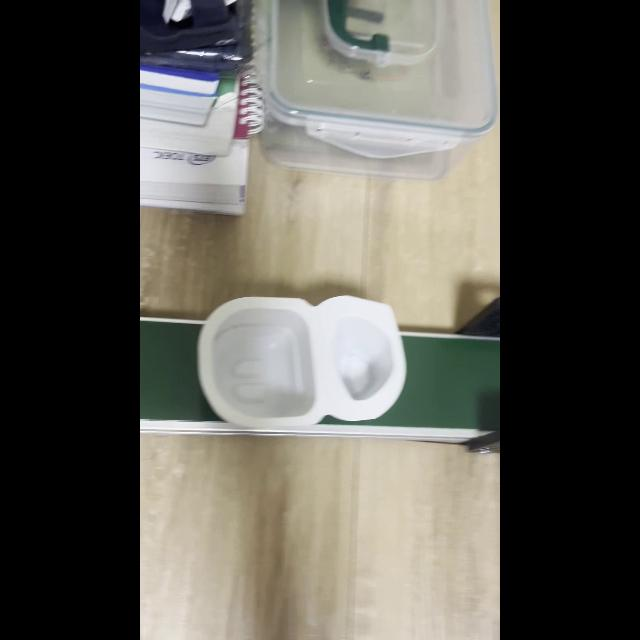clean: (199, 295, 407, 427)
